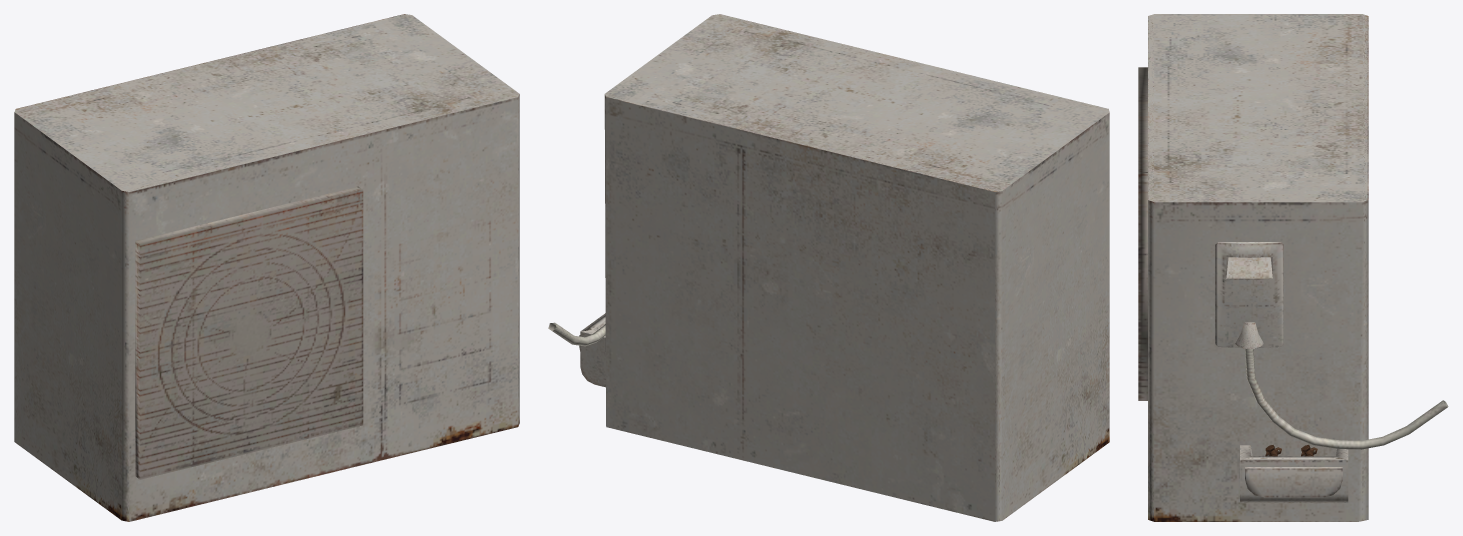
File: 019_Compressorunit.fbx
The picture shows the model from 3 angles, left to right: view 1: azimuth 30°, elevation 25°; view 2: azimuth 150°, elevation 25°; view 3: azimuth 270°, elevation 25°; orthographic projection. The views are drawn at different scales.
Parts seen in each view (by area): view 1: LOD_1_Group_0_Sub_2__sm31_019_CompressorUnit01A_A_Mat, LOD_1_Group_0_Sub_1__sm31_019_CompressorUnit01A_A1_Mat; view 2: LOD_1_Group_0_Sub_2__sm31_019_CompressorUnit01A_A_Mat; view 3: LOD_1_Group_0_Sub_2__sm31_019_CompressorUnit01A_A_Mat, LOD_1_Group_0_Sub_1__sm31_019_CompressorUnit01A_A1_Mat.
Boxes of the visible parts, x1,y1,x2,y2 form: LOD_1_Group_0_Sub_2__sm31_019_CompressorUnit01A_A_Mat: [14, 14, 519, 521]; LOD_1_Group_0_Sub_1__sm31_019_CompressorUnit01A_A1_Mat: [135, 186, 363, 479]; LOD_1_Group_0_Sub_2__sm31_019_CompressorUnit01A_A_Mat: [548, 14, 1109, 521]; LOD_1_Group_0_Sub_2__sm31_019_CompressorUnit01A_A_Mat: [1148, 14, 1448, 521]; LOD_1_Group_0_Sub_1__sm31_019_CompressorUnit01A_A1_Mat: [1138, 67, 1147, 400].
Size of the model in its own units: 1.11 by 0.804 by 0.7066.
